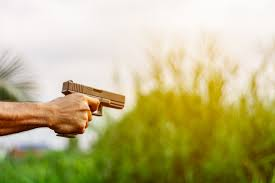gun: (57, 78, 129, 143)
